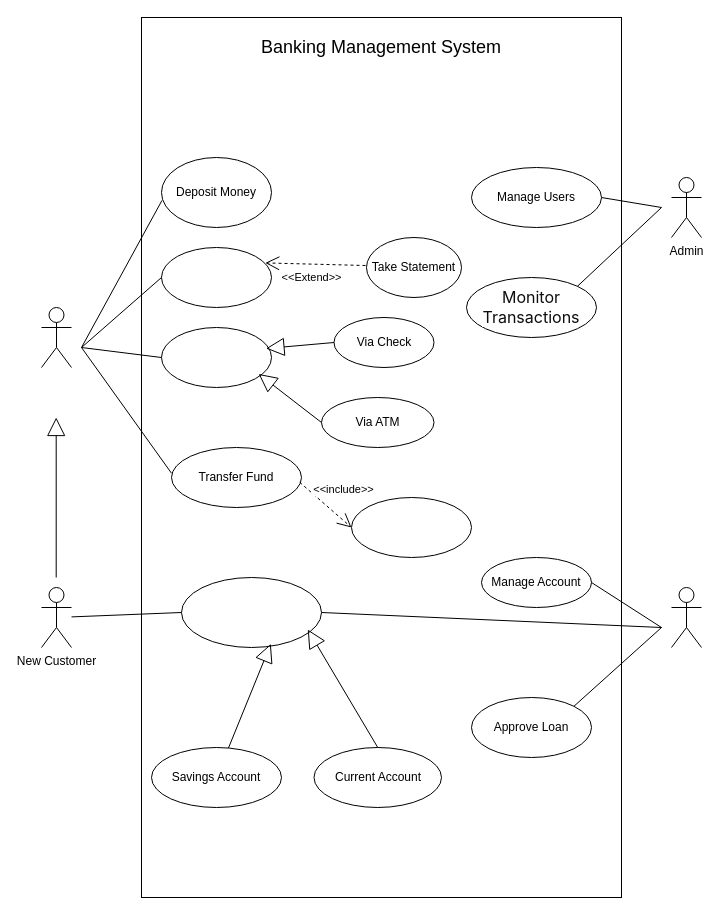
The diagram is 727 pixels wide and 915 high, and some of its shapes have lost their labels. The centre of each missing label's shape, as x and y in pixels:
Check Balance: the point at 216,277
Create Account: the point at 251,612
Customer: the point at 56,337
Enter Amount: the point at 411,527
Manager: the point at 686,617
Withdraw Money: the point at 216,357
